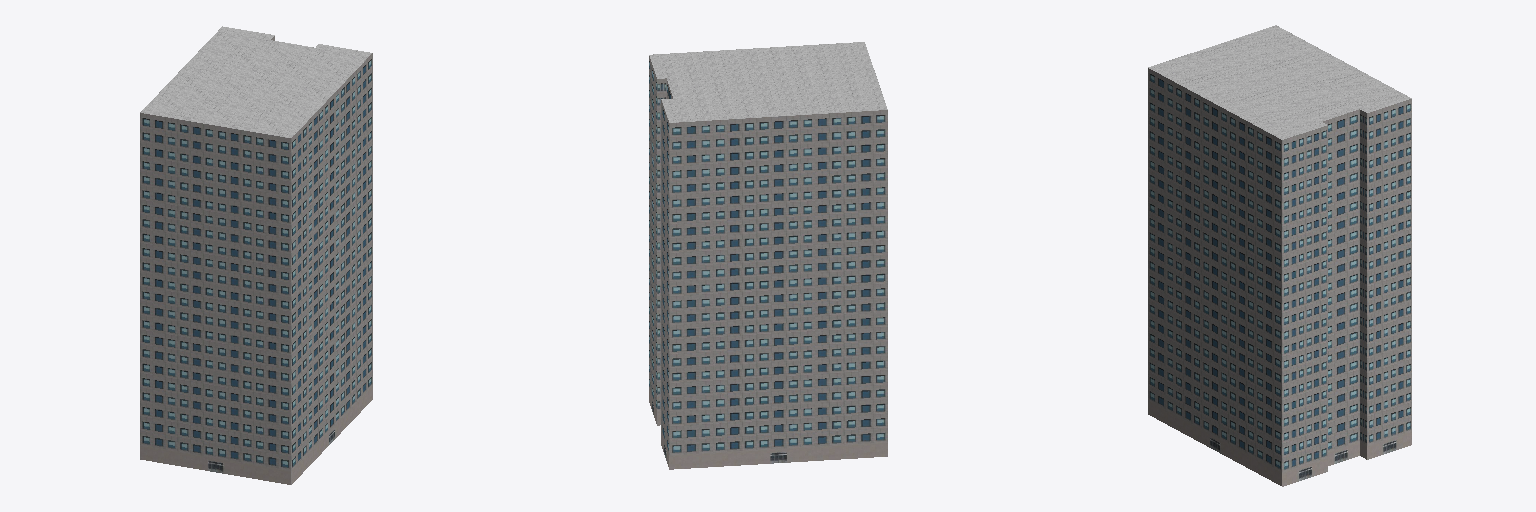
The picture shows the model from 3 angles: view 1: azimuth 30°, elevation 25°; view 2: azimuth 150°, elevation 25°; view 3: azimuth 270°, elevation 25°; orthographic projection.
Visible parts, largest first — view 1: BuildingMaster_[number redacted]_0, BuildingMaster_[number redacted]_1; view 2: BuildingMaster_[number redacted]_0, BuildingMaster_[number redacted]_1; view 3: BuildingMaster_[number redacted]_0, BuildingMaster_[number redacted]_1.
Part boxes in pixels (x1,y1,x2,y2): BuildingMaster_[number redacted]_0: (140,36,372,484); BuildingMaster_[number redacted]_1: (140,26,371,137); BuildingMaster_[number redacted]_0: (649,56,887,469); BuildingMaster_[number redacted]_1: (649,42,887,122); BuildingMaster_[number redacted]_0: (1148,68,1411,486); BuildingMaster_[number redacted]_1: (1148,25,1411,139).
Size of the model in its own units: 59.76 by 84 by 58.04.
2 materials, 2 textured.